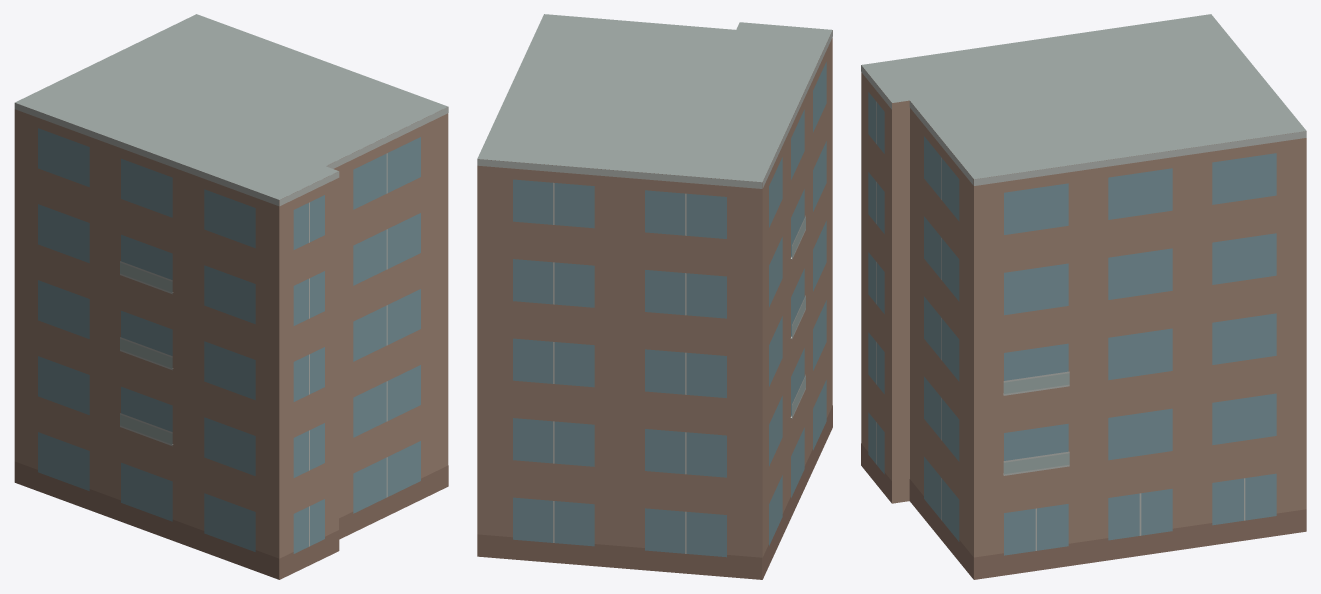
Rendered from survey-upis-32881676.glb.
The picture shows the model from 3 angles, left to right: view 1: azimuth 30°, elevation 25°; view 2: azimuth 150°, elevation 25°; view 3: azimuth 270°, elevation 25°; orthographic projection. The views are drawn at different scales.
Parts seen in each view (by area): view 1: survey-upis-32881676.tmp; view 2: survey-upis-32881676.tmp; view 3: survey-upis-32881676.tmp.
Boxes of the visible parts, left/top/right/bottom form: survey-upis-32881676.tmp: left=14, top=14, right=448, bottom=579; survey-upis-32881676.tmp: left=477, top=14, right=832, bottom=579; survey-upis-32881676.tmp: left=861, top=14, right=1306, bottom=579.
Size of the model in its own units: 12.67 by 14.3 by 14.43.
